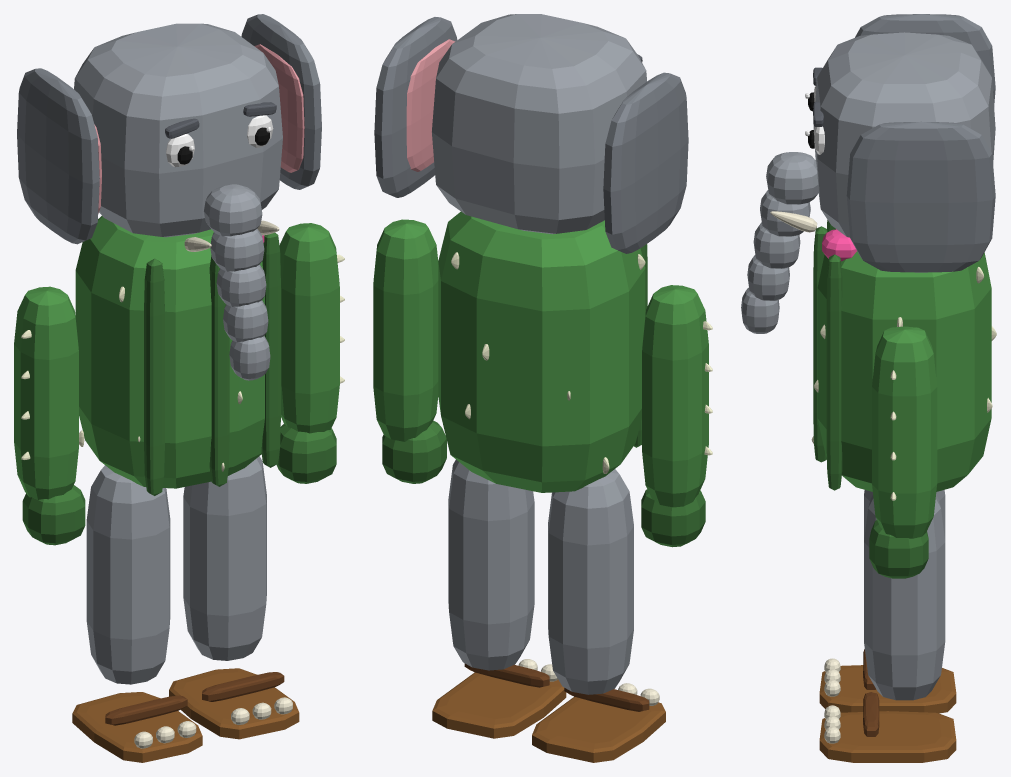
The model's file is br-lirili.glb.
The picture shows the model from 3 angles, left to right: view 1: azimuth 30°, elevation 25°; view 2: azimuth 150°, elevation 25°; view 3: azimuth 270°, elevation 25°; orthographic projection. The views are drawn at different scales.
Parts seen in each view (by area): view 1: head, torso, leg-right, leg-left, arm-right, arm-left; view 2: head, torso, leg-right, leg-left, arm-right, arm-left; view 3: head, torso, leg-left, arm-left, leg-right.
Part boxes in pixels (left/top/right/bottom): head: left=17, top=14, right=321, bottom=380; torso: left=75, top=216, right=280, bottom=495; leg-right: left=72, top=465, right=202, bottom=762; leg-left: left=169, top=456, right=299, bottom=739; arm-right: left=14, top=286, right=85, bottom=545; arm-left: left=276, top=223, right=344, bottom=483; head: left=374, top=14, right=688, bottom=253; torso: left=438, top=211, right=647, bottom=492; leg-right: left=532, top=469, right=665, bottom=762; leg-left: left=432, top=459, right=566, bottom=738; arm-right: left=641, top=285, right=712, bottom=547; arm-left: left=373, top=219, right=446, bottom=483; head: left=741, top=14, right=995, bottom=333; torso: left=811, top=220, right=996, bottom=491; leg-left: left=819, top=495, right=956, bottom=762; arm-left: left=869, top=326, right=937, bottom=578; leg-right: left=819, top=490, right=956, bottom=713.
Size of the model in its own units: 1.34 by 2.65 by 0.9225.
